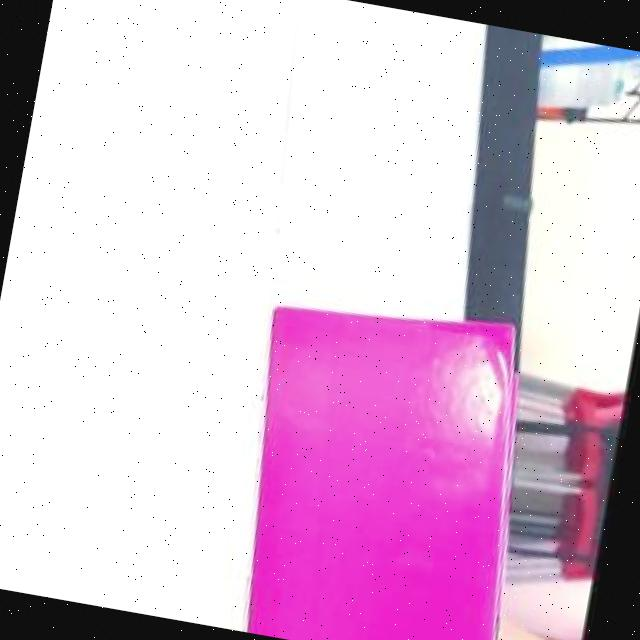xparking: (238, 300, 511, 640)
